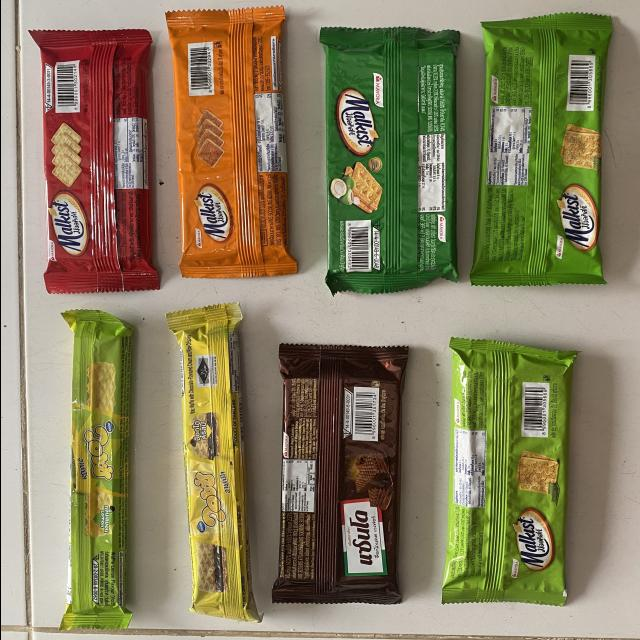plastik: (469, 13, 611, 286), (319, 28, 458, 294), (442, 339, 575, 606), (165, 7, 296, 277), (271, 344, 407, 604), (30, 30, 158, 293), (166, 303, 260, 622), (59, 311, 131, 630)
